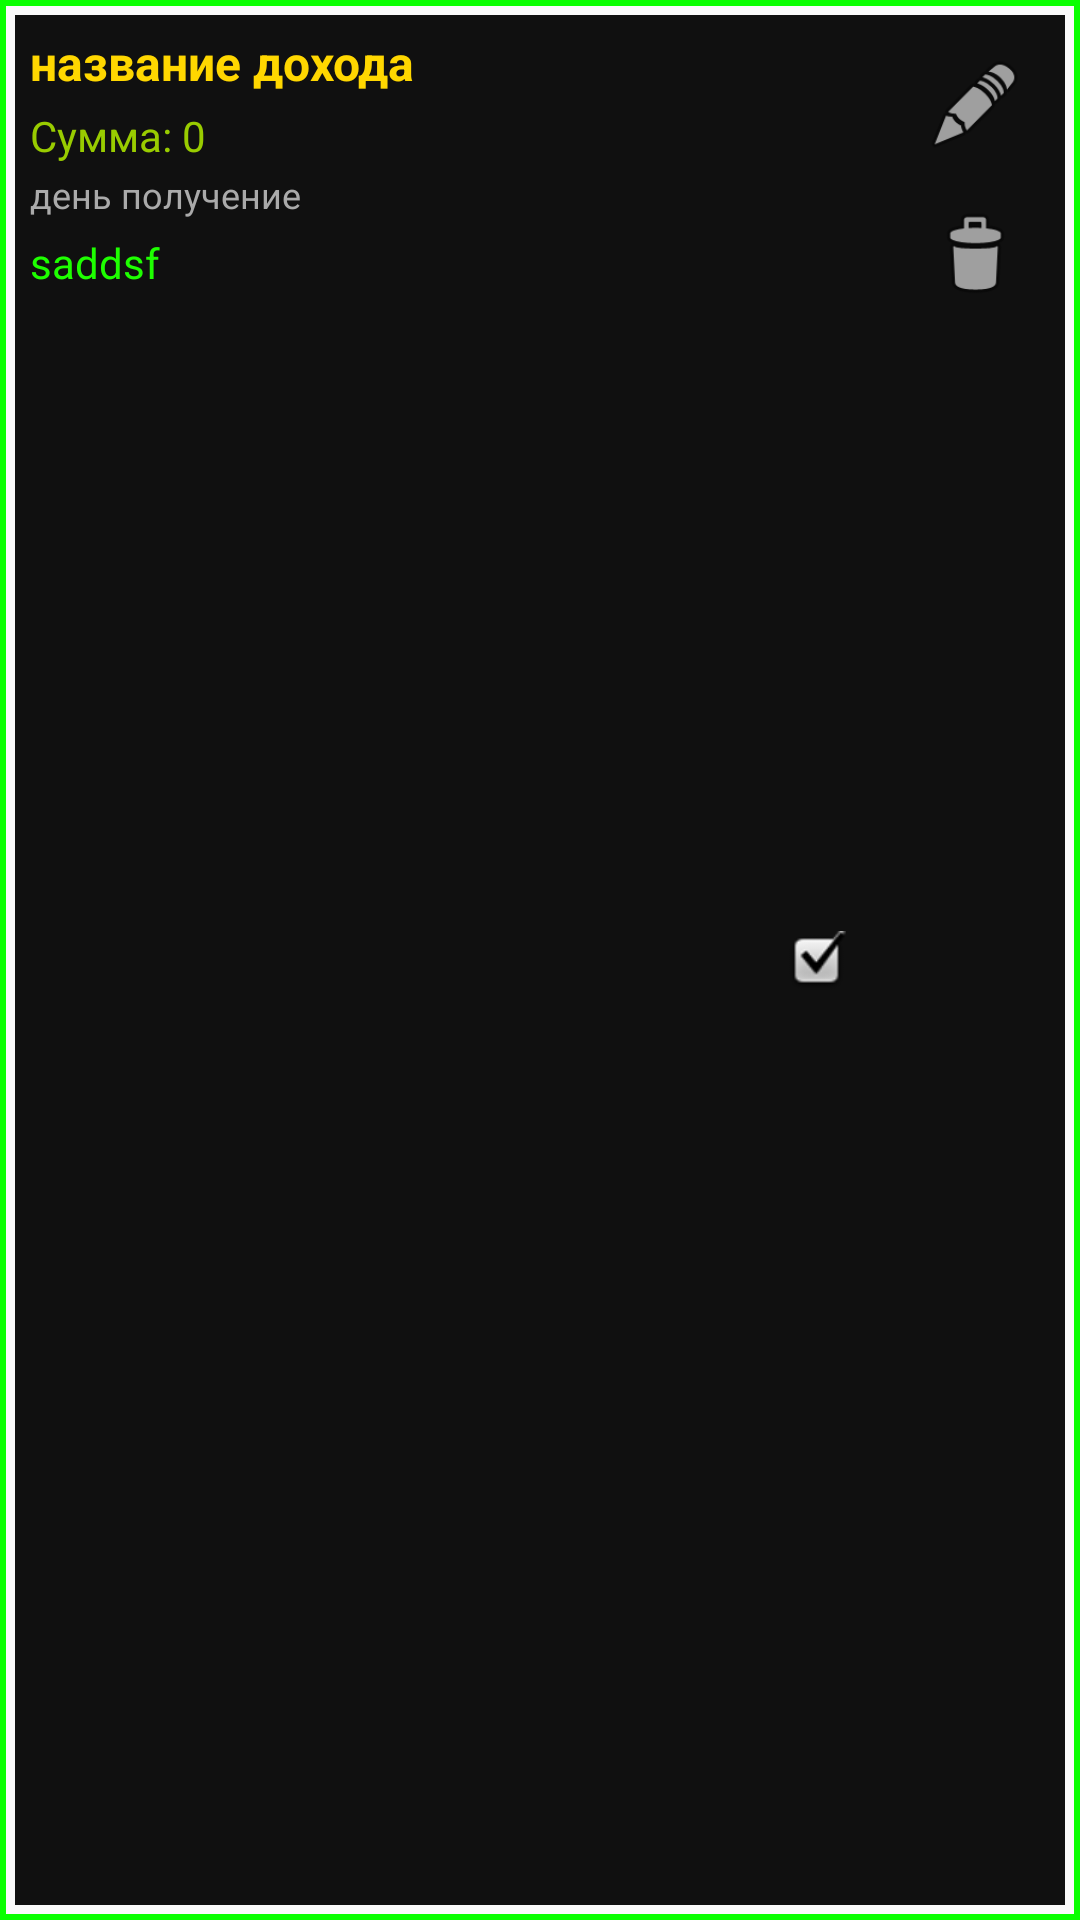

Icon click points for this 1080*1920 phone screenshot, format [x,y]:
Редактировать: [975,104]
Удалить: [975,253]
